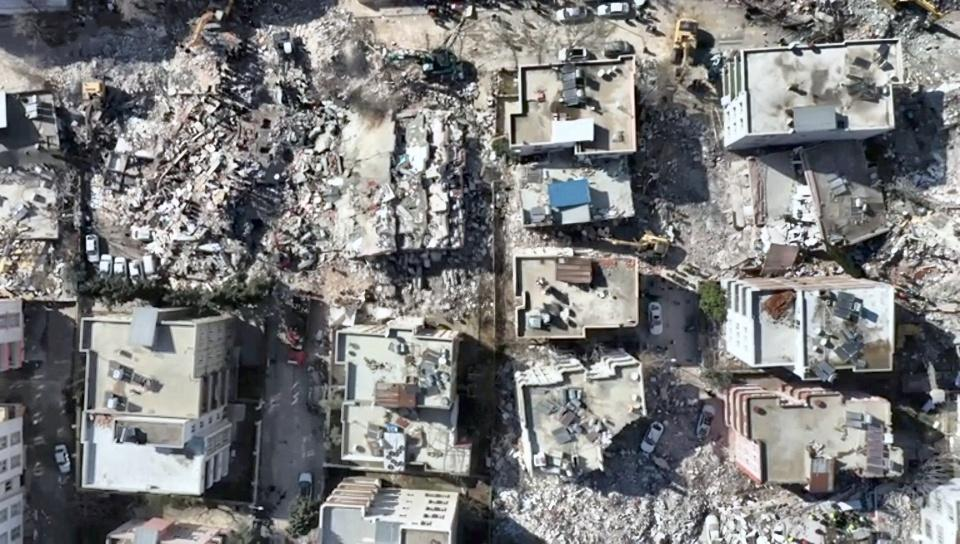kapali: (0, 11, 495, 89), (265, 77, 343, 388), (628, 48, 696, 300), (639, 336, 708, 543)
